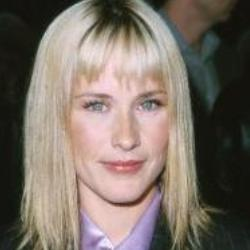face: (16, 1, 212, 244)
